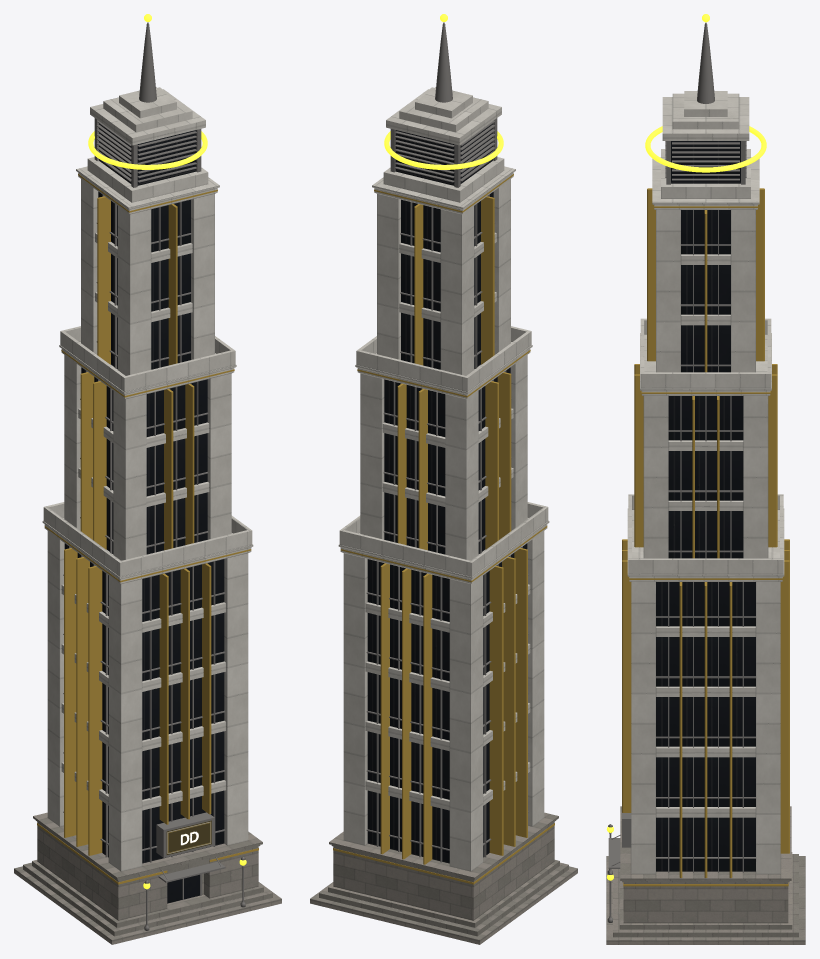
File: s24-donatello-dao.glb
3 views of the same model, side by side, from view 1: azimuth 30°, elevation 25°; view 2: azimuth 150°, elevation 25°; view 3: azimuth 270°, elevation 25° (orthographic).
Visible parts, largest first — view 1: Landmark · Donatello DAO (Series 24); view 2: Landmark · Donatello DAO (Series 24); view 3: Landmark · Donatello DAO (Series 24).
Boxes of the visible parts, left/top/right/bottom form: Landmark · Donatello DAO (Series 24): left=14, top=14, right=281, bottom=944; Landmark · Donatello DAO (Series 24): left=310, top=14, right=577, bottom=944; Landmark · Donatello DAO (Series 24): left=606, top=14, right=805, bottom=944.
Bounding box in the file's own units: 12 × 59 × 12.
7 materials, 4 textured.
